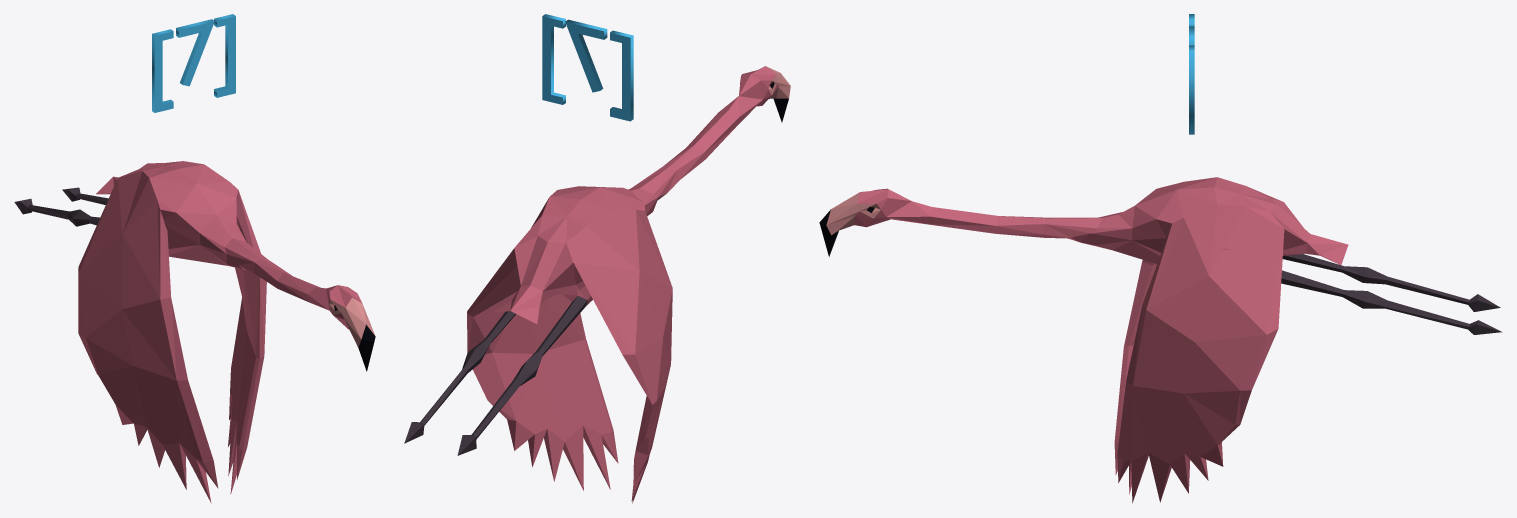
The model's file is flamingo_e.glb.
The picture shows the model from 3 angles, left to right: view 1: azimuth 30°, elevation 25°; view 2: azimuth 150°, elevation 25°; view 3: azimuth 270°, elevation 25°; orthographic projection. The views are drawn at different scales.
Parts seen in each view (by area): view 1: Mesh_0, Text_7; view 2: Mesh_0, Text_7; view 3: Mesh_0.
Boxes of the visible parts, x1,y1,x2,y2 form: Mesh_0: [14, 161, 375, 503]; Text_7: [152, 14, 235, 112]; Mesh_0: [404, 66, 790, 503]; Text_7: [542, 14, 633, 121]; Mesh_0: [819, 177, 1502, 503].
Bounding box in the file's own units: 5.22 × 13.34 × 17.66.
